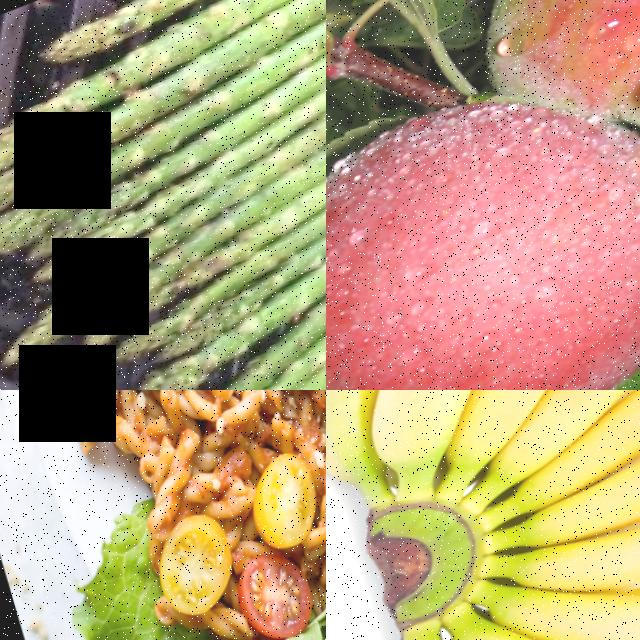apple: (326, 18, 640, 390)
asparagus: (0, 0, 326, 160), (27, 54, 326, 215), (91, 196, 326, 378), (0, 59, 233, 196), (0, 0, 326, 78), (0, 249, 172, 366)
banana: (326, 390, 640, 640)
tomato: (139, 503, 245, 638), (237, 457, 326, 558), (233, 547, 322, 640)
